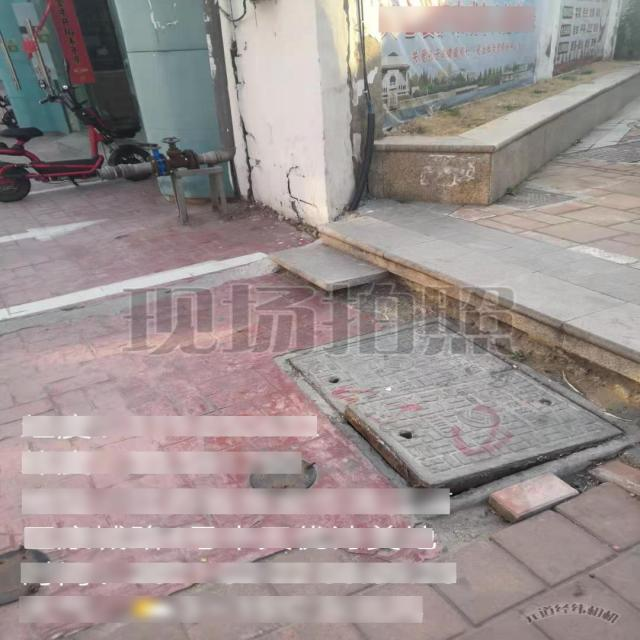Lose: (269, 316, 638, 516)
